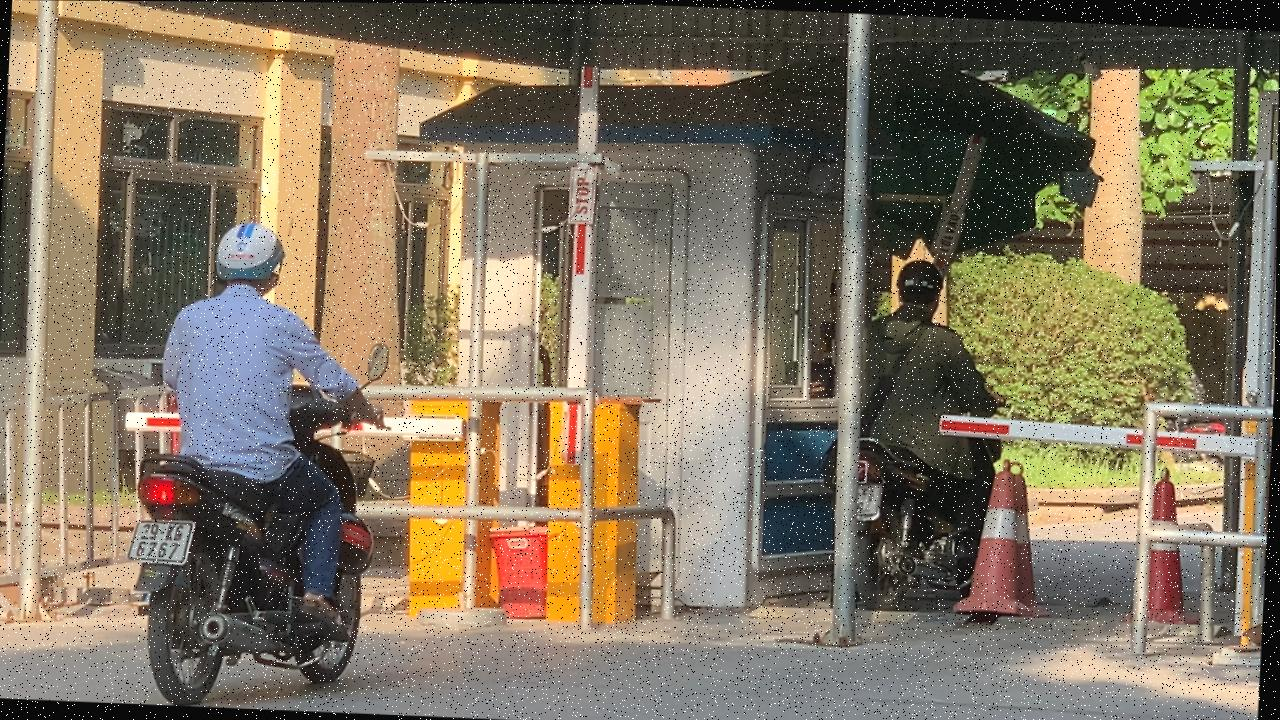helmet: (896, 258, 950, 300)
motorcyclist: (113, 214, 406, 714), (830, 249, 1008, 615)
